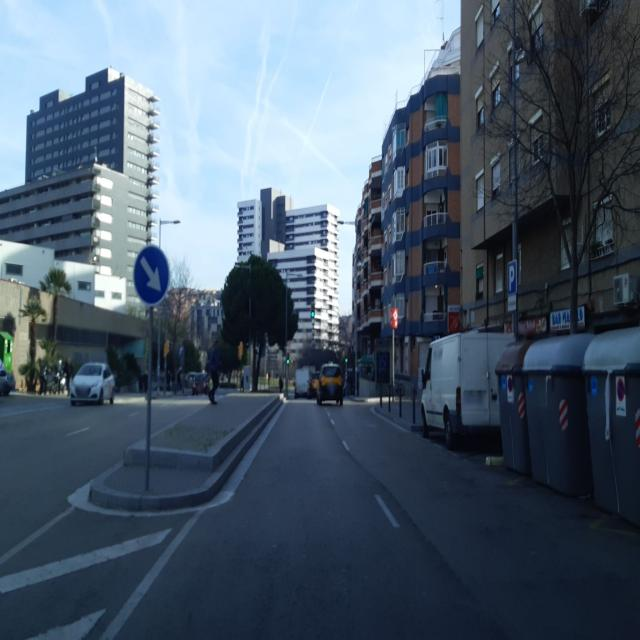forb_stopping: (617, 378, 625, 402)
